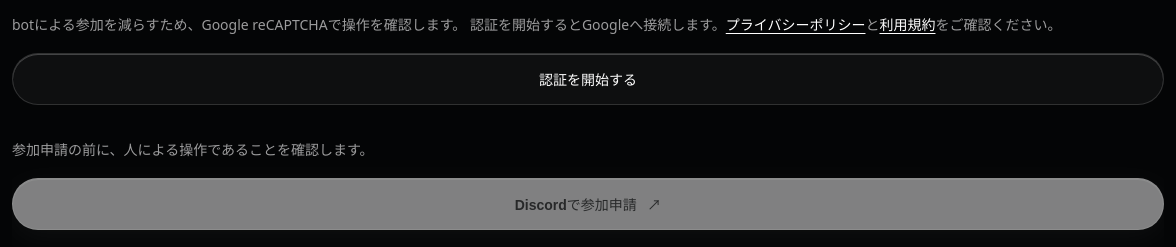
Test: participation verification › allows retry when Google's script fails to load
This screenshot has width=1176, height=247.
Click the button "認証を開始する". click: (588, 79)
box: [12,53,1164,105]
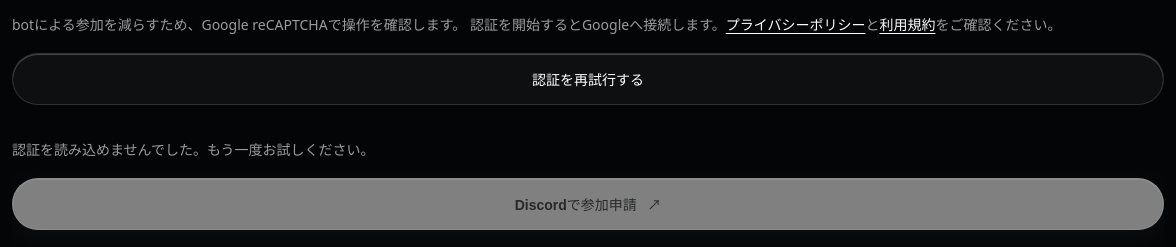
expect the button "Discordで参加申請 ↗" is disabled: met, box [12,178,1164,230]
Click the button "認証を再試行する". click: (588, 79)
box: [12,53,1164,105]
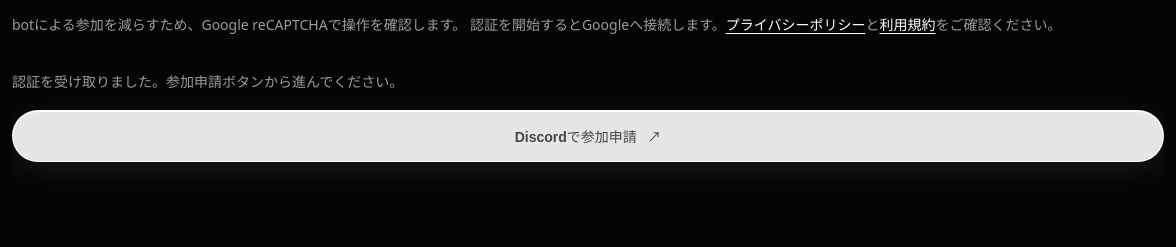
expect the button "Discordで参加申請 ↗" is enabled: met, box [12,110,1164,162]
